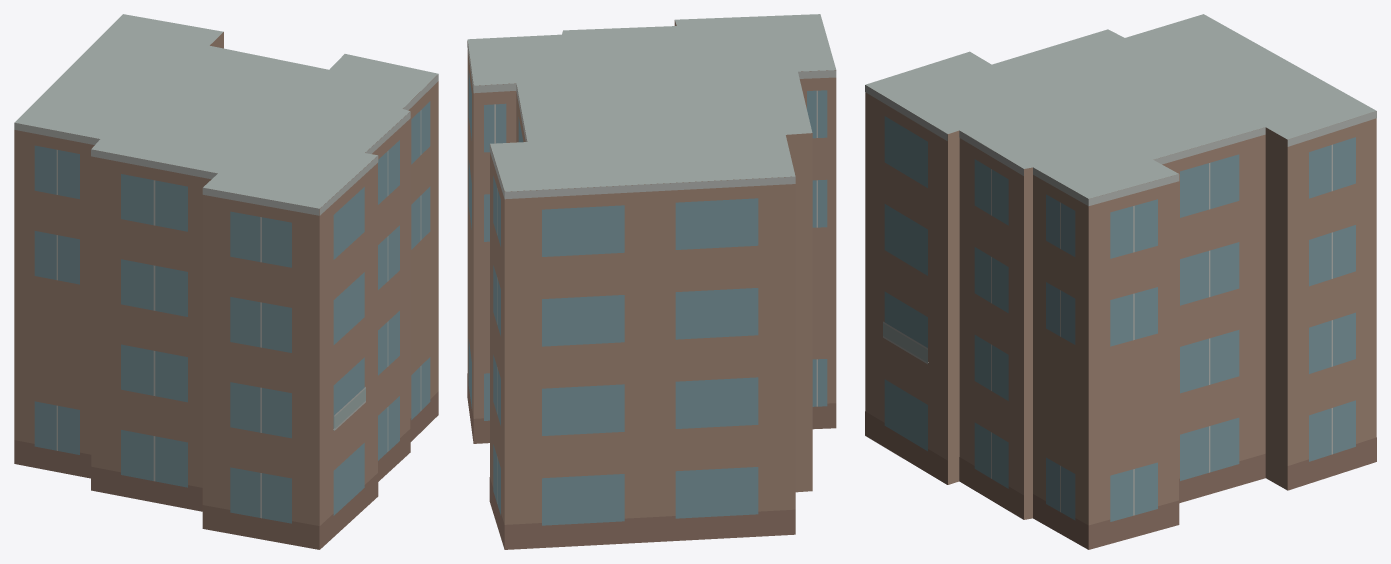
The model's file is survey-upis-32608062.glb.
The picture shows the model from 3 angles, left to right: view 1: azimuth 30°, elevation 25°; view 2: azimuth 150°, elevation 25°; view 3: azimuth 270°, elevation 25°; orthographic projection. The views are drawn at different scales.
Visible parts, largest first — view 1: survey-upis-32608062.tmp; view 2: survey-upis-32608062.tmp; view 3: survey-upis-32608062.tmp.
Boxes of the visible parts, x1=… form: survey-upis-32608062.tmp: x1=14, y1=14, x2=438, y2=549; survey-upis-32608062.tmp: x1=467, y1=14, x2=836, y2=549; survey-upis-32608062.tmp: x1=865, y1=14, x2=1376, y2=549.
Size of the model in its own units: 13.23 by 11.7 by 15.47.
